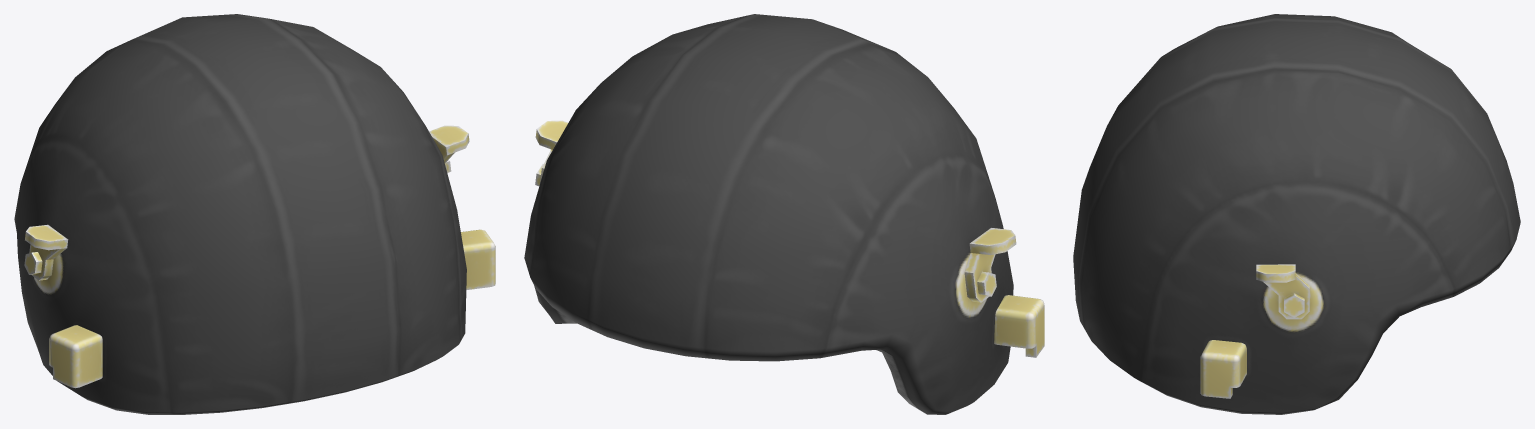
File: IG_Helmat_Lv5-1hear.fbx
The picture shows the model from 3 angles, left to right: view 1: azimuth 30°, elevation 25°; view 2: azimuth 150°, elevation 25°; view 3: azimuth 270°, elevation 25°; orthographic projection. The views are drawn at different scales.
Parts seen in each view (by area): view 1: ZSh-1-2M; view 2: ZSh-1-2M; view 3: ZSh-1-2M.
Part boxes in pixels (bbox=[...]): ZSh-1-2M: bbox=[14, 14, 495, 414]; ZSh-1-2M: bbox=[524, 14, 1044, 414]; ZSh-1-2M: bbox=[1073, 14, 1520, 414].
Size of the model in its own units: 0.7027 by 0.4591 by 0.6366.
